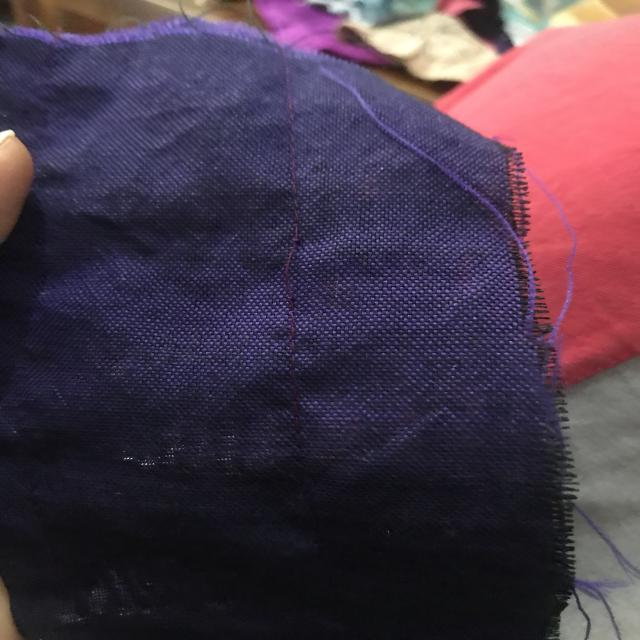skip: (265, 230, 332, 323)
